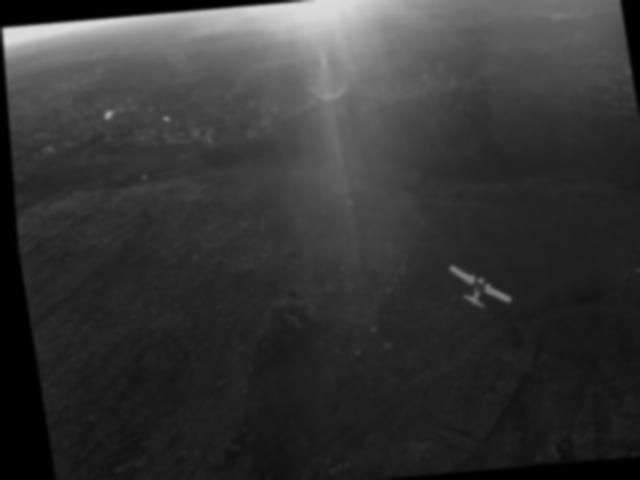hedef: (434, 252, 517, 322)
